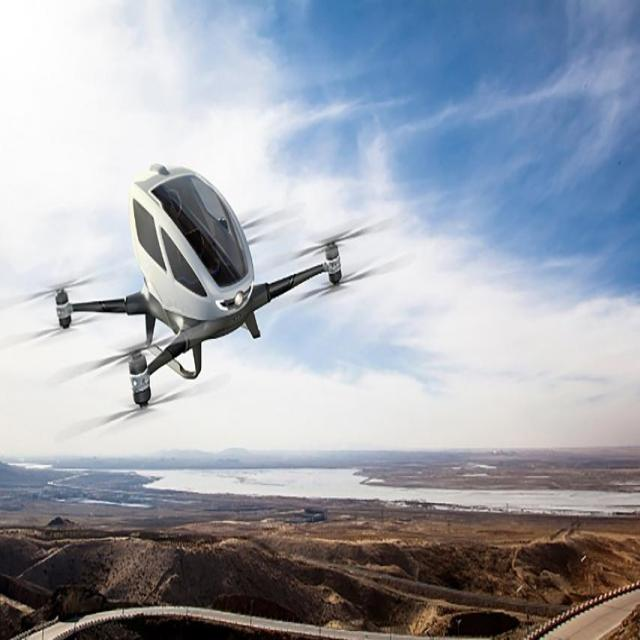drone: (2, 154, 416, 444)
